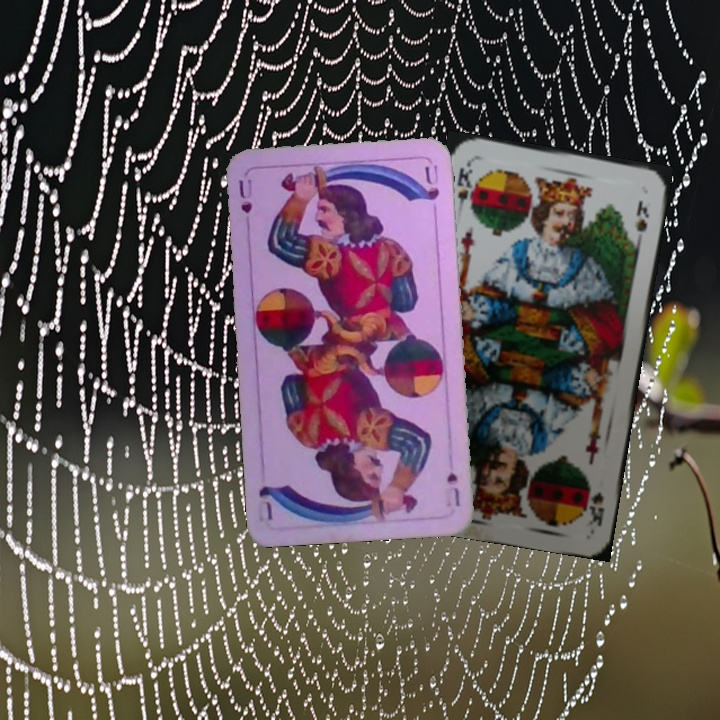SK: (453, 158, 475, 217), (582, 481, 607, 529)
SU: (439, 468, 462, 508), (235, 175, 255, 216)
